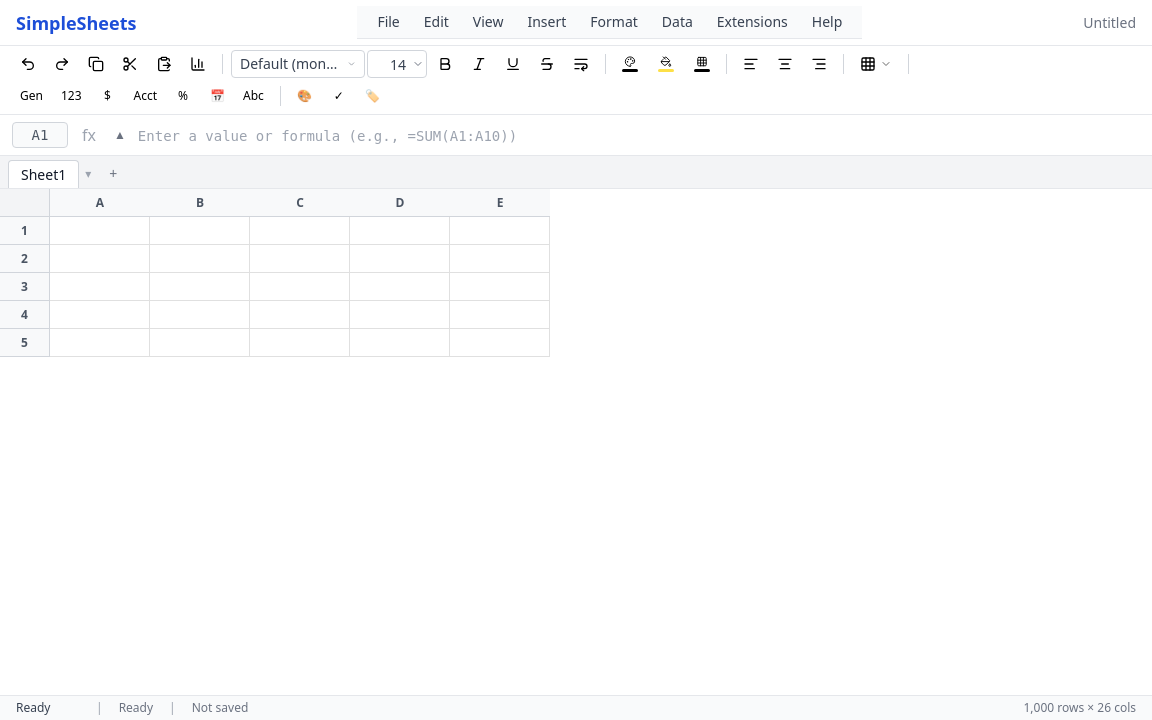
Test: App — Freeze Panes per Excel specification › freezes only rows when active cell is in column A
Press the mouse on the 11th element with class "grid-cell" at x=100, y=287, box [50,273,150,301]
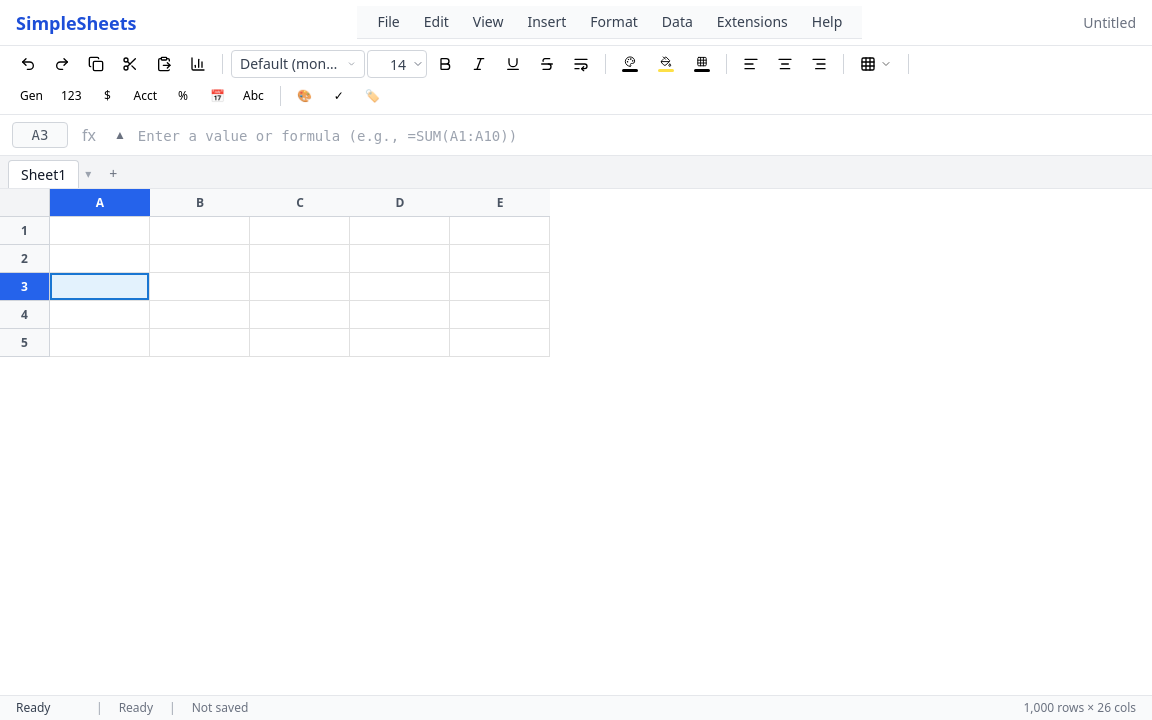
Click the button "View" at x=488, y=22, box [461,8,515,36]
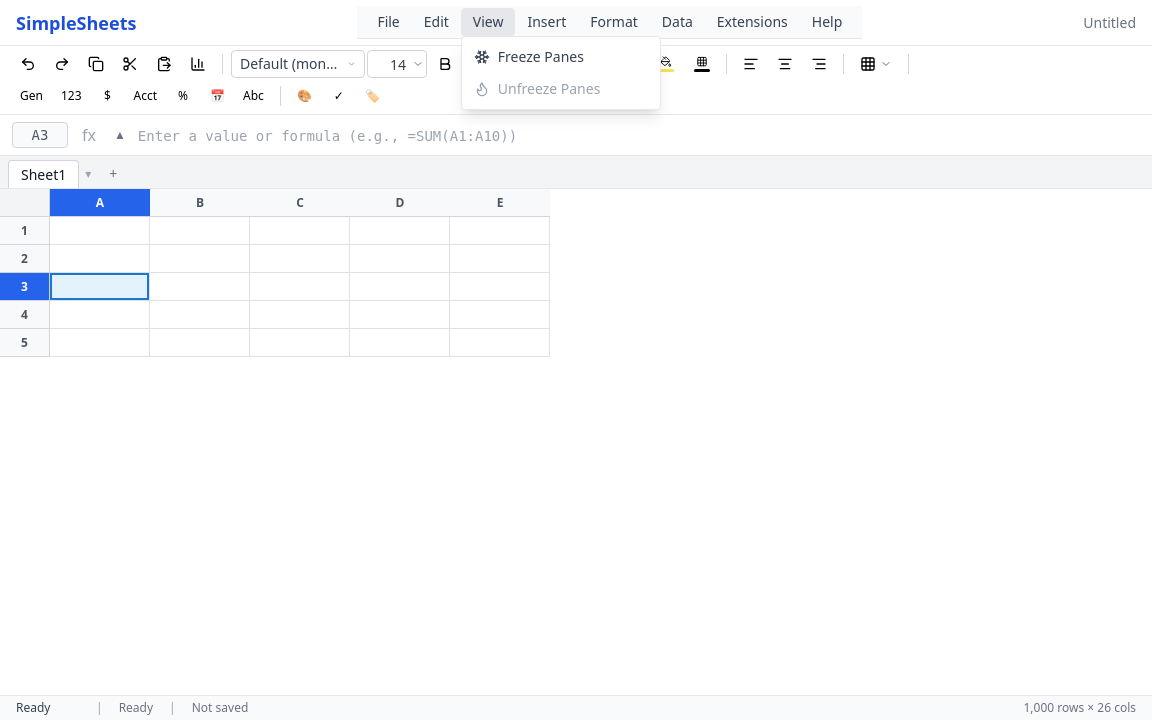
Click the menu item "Freeze Panes" at x=529, y=56, box [474,47,584,66]
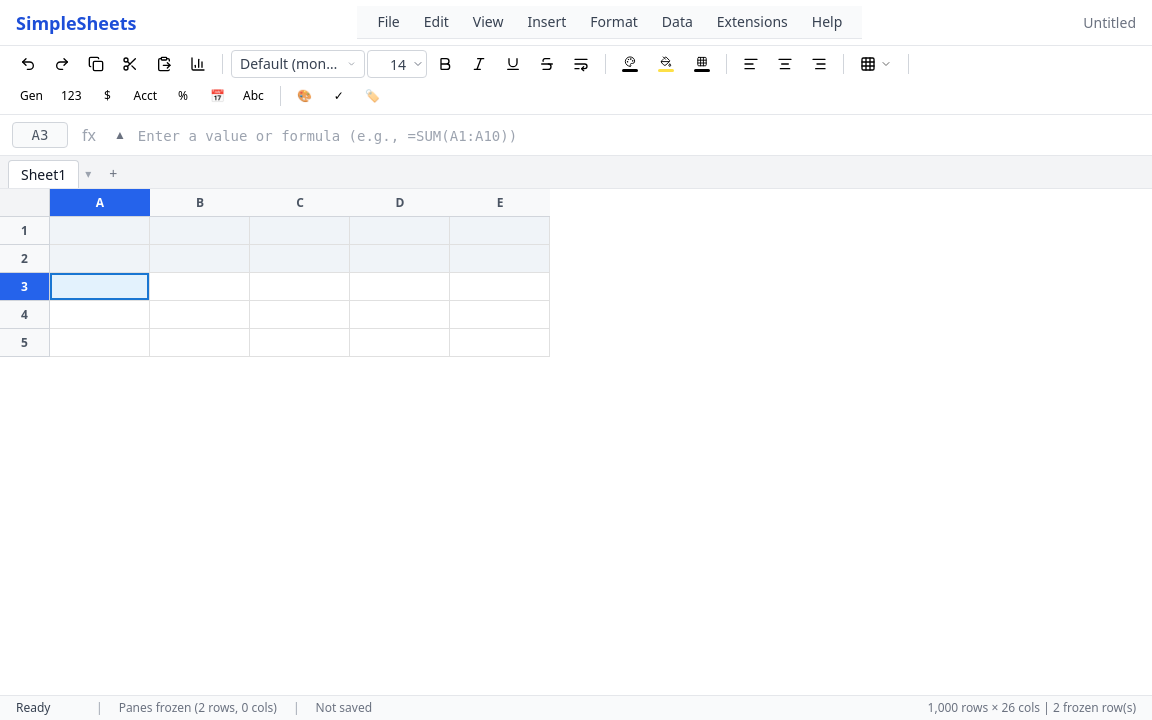
Check: the footer shows "2 frozen row(s)", box [1040,699,1136,716]
